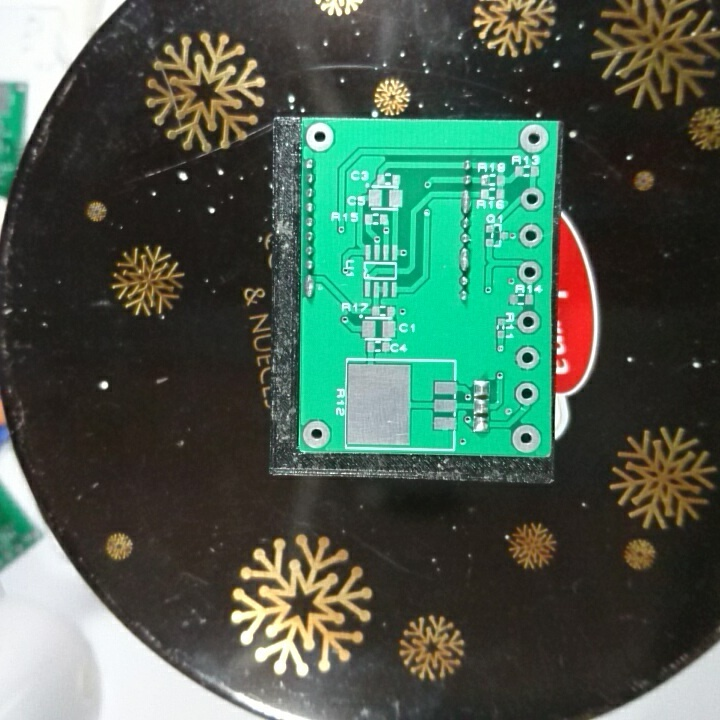F: (303, 118, 336, 154), (517, 123, 551, 155), (301, 416, 332, 450), (511, 423, 543, 453), (519, 186, 546, 214), (517, 258, 544, 286), (513, 380, 541, 407), (517, 223, 546, 249), (515, 308, 542, 334), (514, 345, 541, 371)
P: (458, 246, 473, 274), (302, 272, 317, 299), (460, 187, 474, 215)
